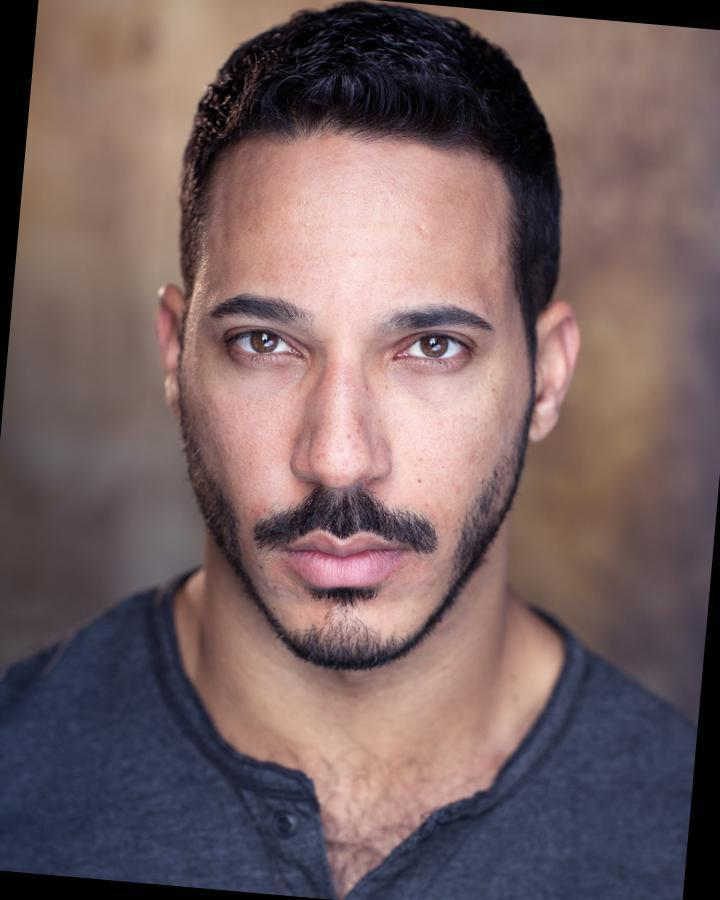Sober: (203, 144, 516, 606)
